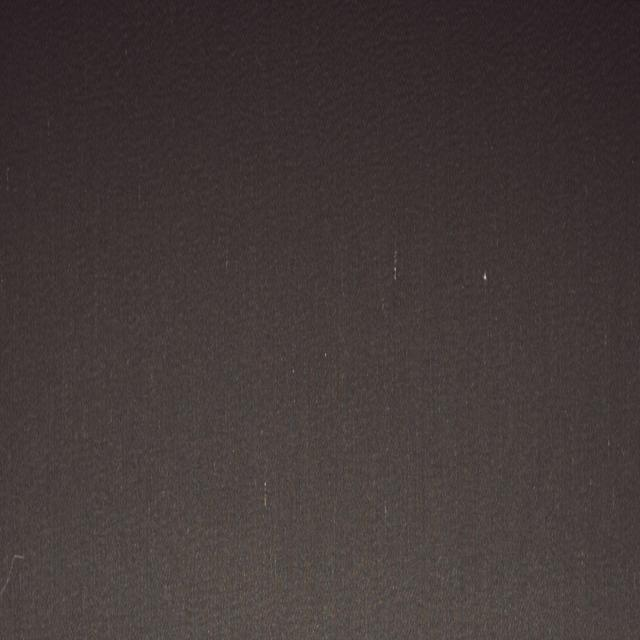Knot: (483, 271, 488, 284)
